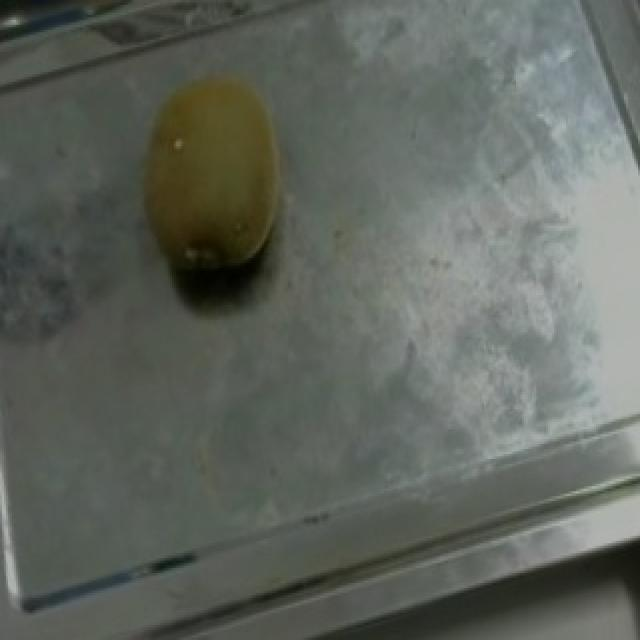Fruit: (102, 47, 320, 315)
